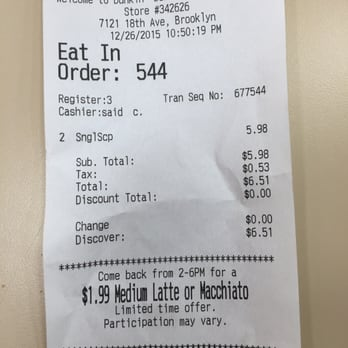Additional details: (39, 259, 296, 348)
Purchase summary: (41, 41, 295, 269)
Receipt: (44, 2, 292, 348)
Shop details: (41, 1, 284, 41)
